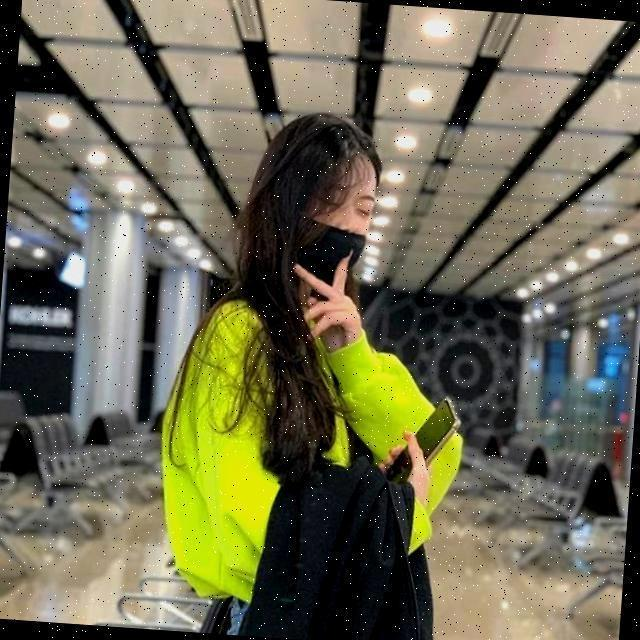no_apron: (289, 252, 378, 340)
